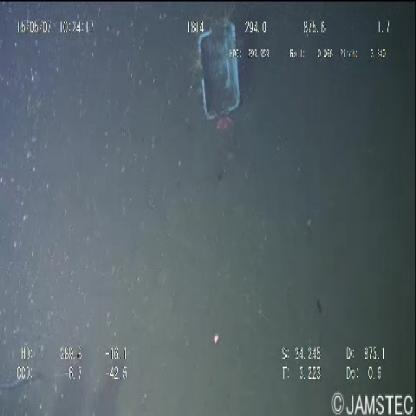Rác: (194, 15, 245, 131)
